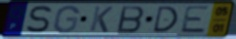B: (116, 5, 146, 34)
D: (151, 5, 179, 34)
E: (178, 5, 211, 34)
G: (52, 5, 81, 34)
K: (88, 5, 115, 34)
S: (25, 4, 54, 34)
